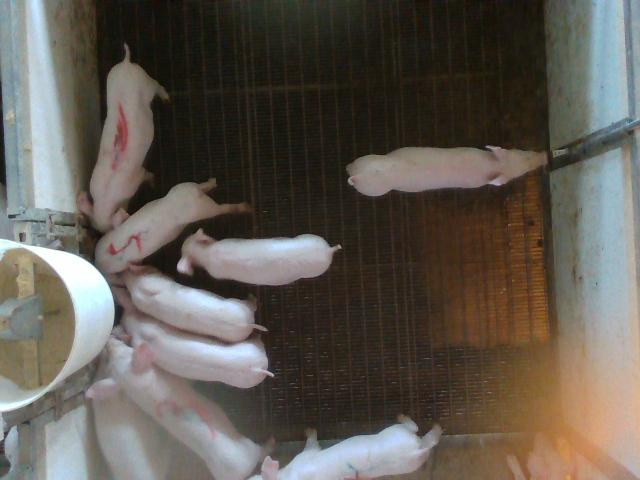pig-1: (78, 45, 169, 232)
pig-3: (88, 336, 272, 479)
pig-5: (95, 179, 251, 274)
